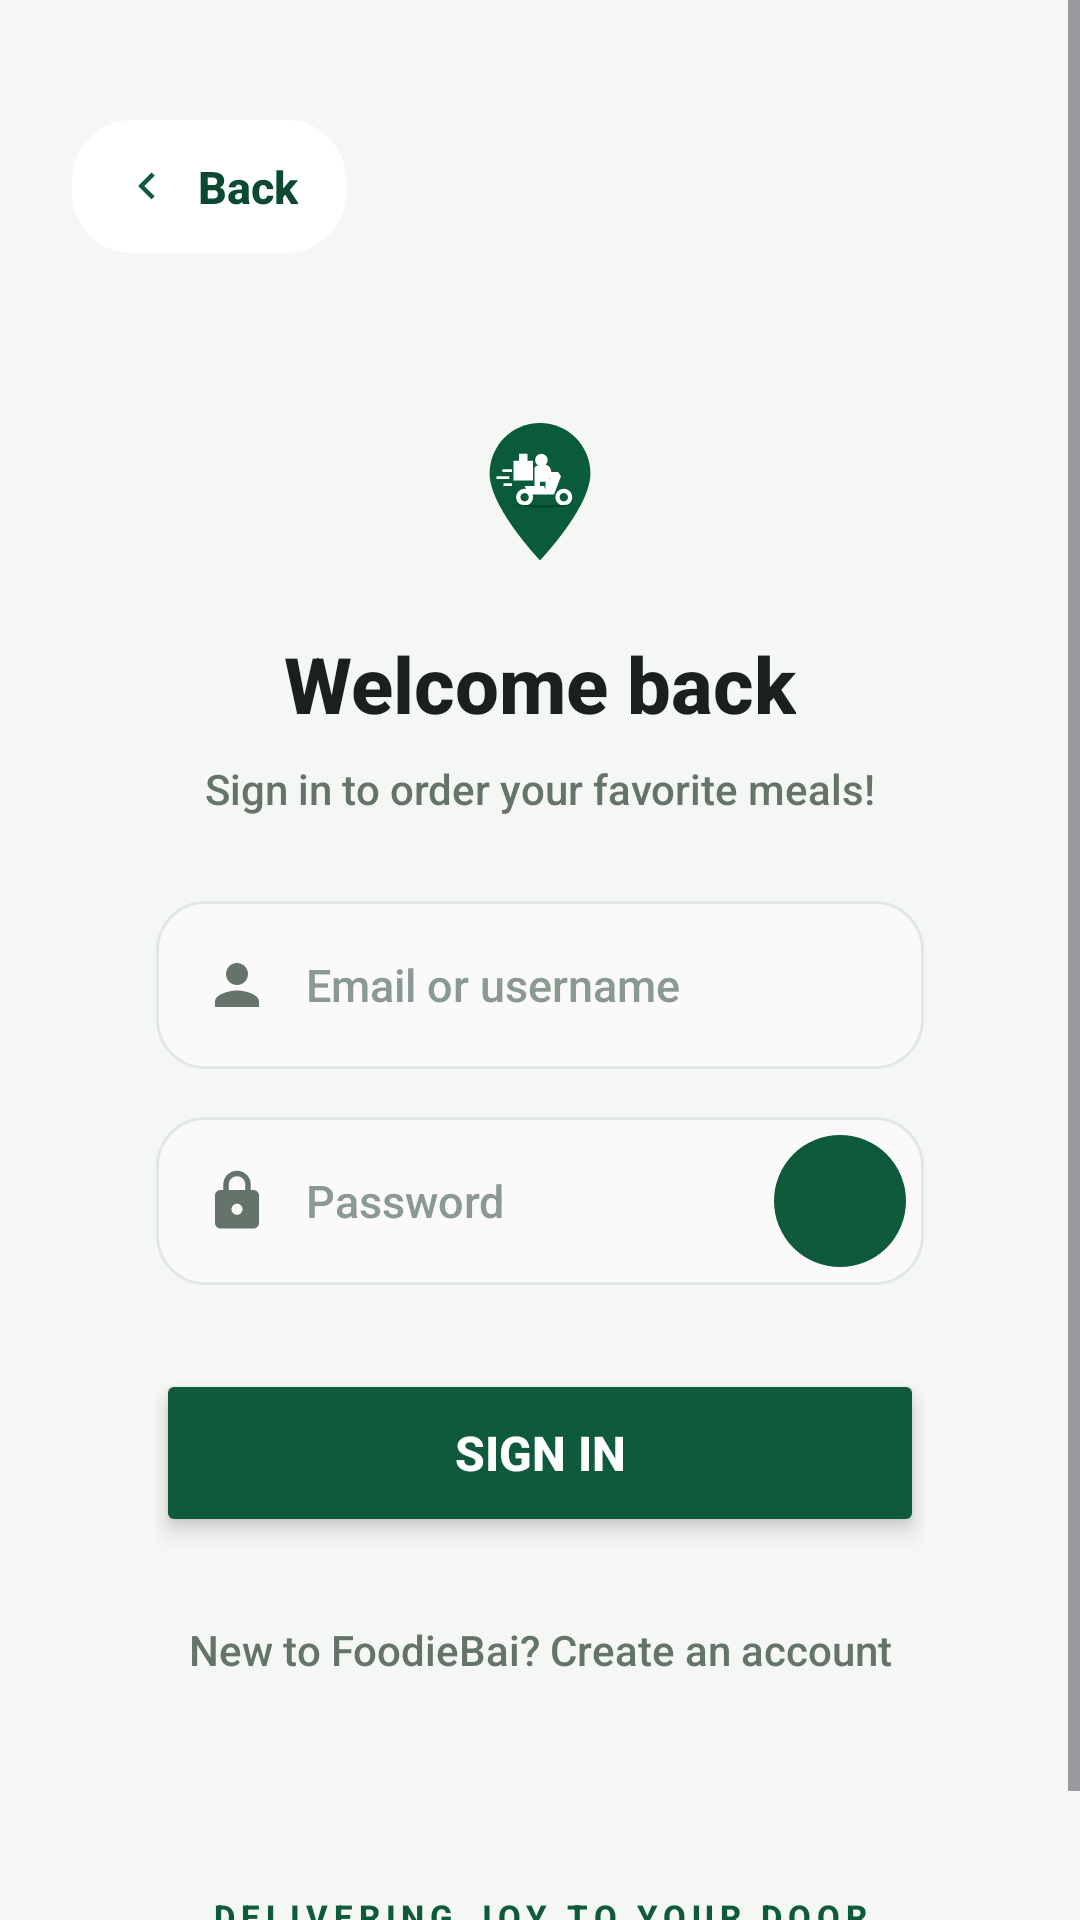

Locate icon controls on the screen. Image size 1080*1920, boxes as (x1, y1, x2, y2).
lock: (215, 1170, 259, 1229)
person: (215, 963, 259, 1007)
scooter pin: (489, 423, 591, 560)
